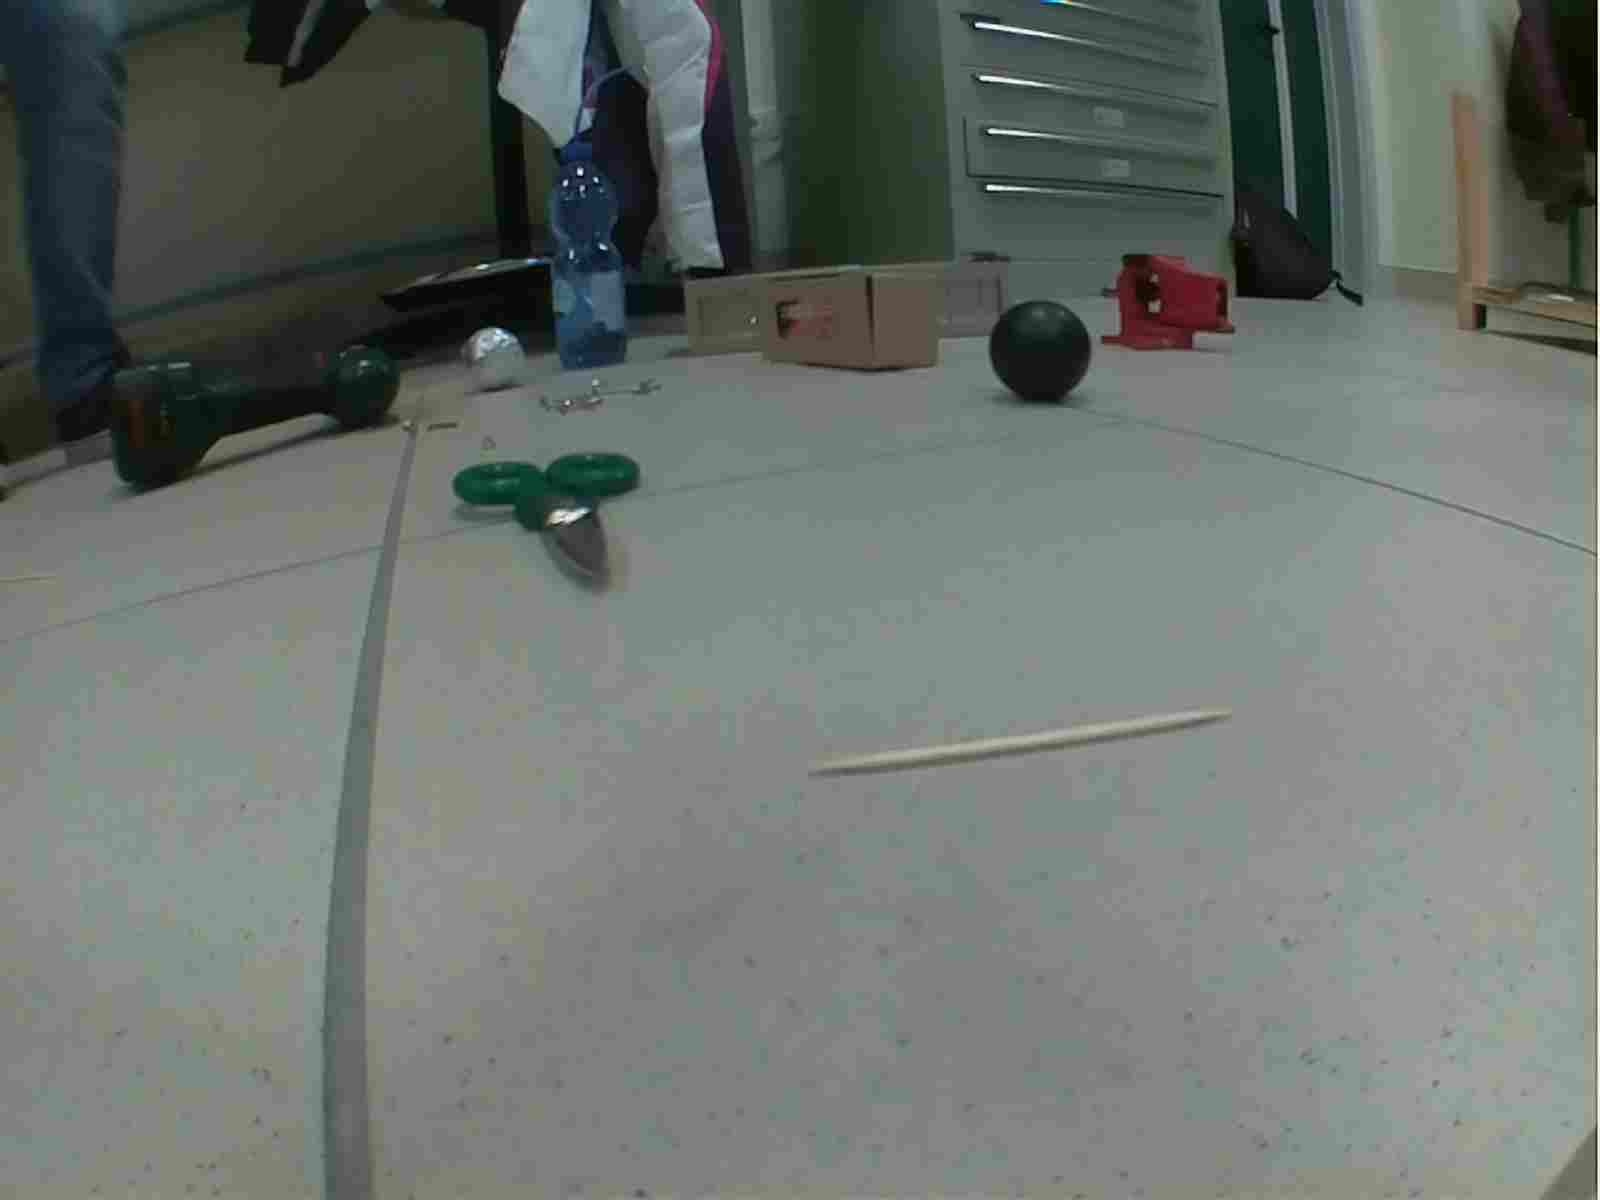bianca: (464, 323, 533, 395)
nera: (986, 297, 1099, 406)
